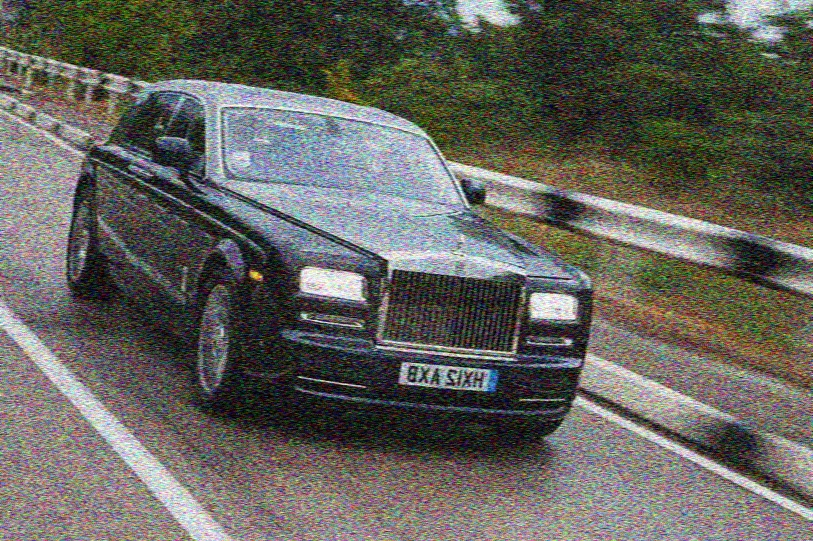car: (50, 38, 642, 484)
